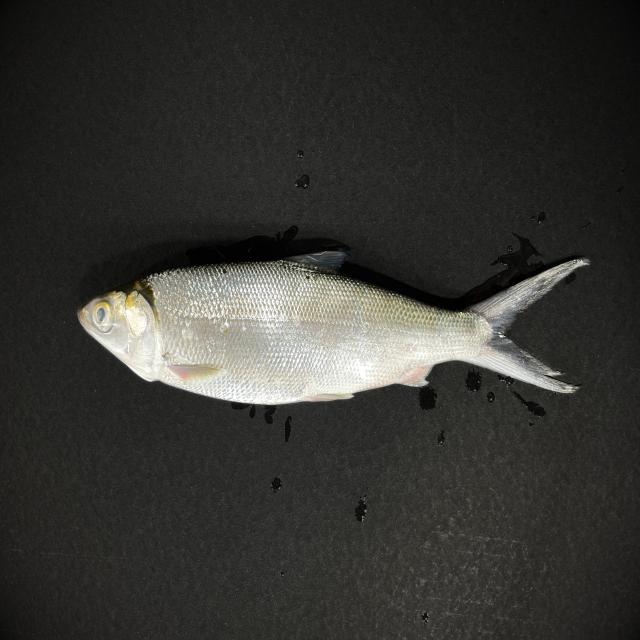375 g: (76, 249, 591, 405)
